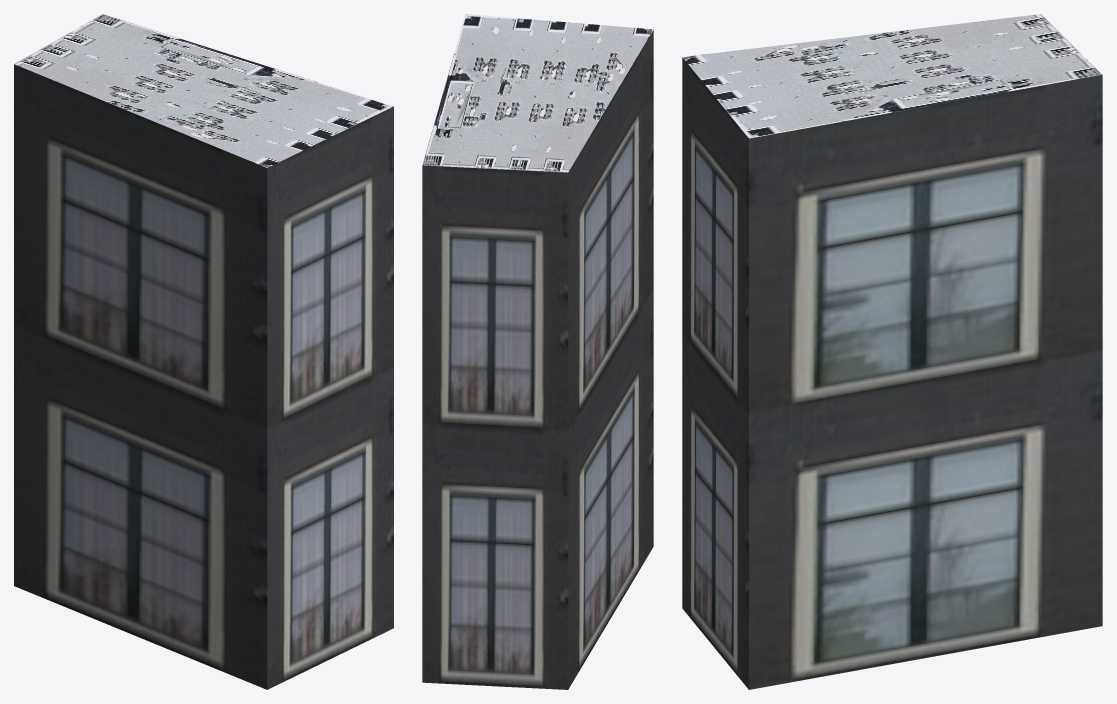
Rendered from ResTex__2842.fbx.
3 renders of one model, left to right at view 1: azimuth 30°, elevation 25°; view 2: azimuth 150°, elevation 25°; view 3: azimuth 270°, elevation 25°, orthographic. The views are drawn at different scales.
Parts seen in each view (by area): view 1: CityEngineMaterial_22_m, CityEngineMaterial_4_m; view 2: CityEngineMaterial_22_m, CityEngineMaterial_4_m; view 3: CityEngineMaterial_22_m, CityEngineMaterial_4_m.
Part boxes in pixels (bbox=[...]): CityEngineMaterial_22_m: bbox=[14, 64, 393, 689]; CityEngineMaterial_4_m: bbox=[14, 14, 393, 167]; CityEngineMaterial_22_m: bbox=[422, 30, 653, 689]; CityEngineMaterial_4_m: bbox=[422, 14, 653, 172]; CityEngineMaterial_22_m: bbox=[682, 57, 1102, 689]; CityEngineMaterial_4_m: bbox=[682, 14, 1102, 138].
Size of the model in its own units: 2.91 by 6 by 4.15.
2 materials, 2 textured.
